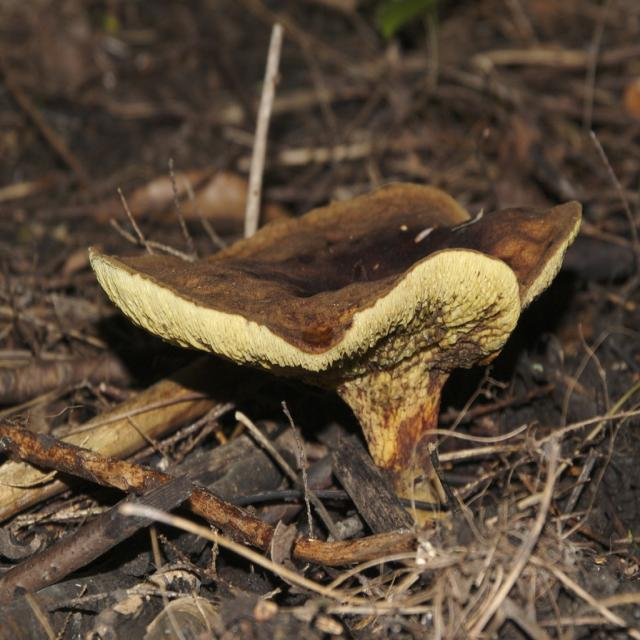mushroom: (77, 144, 589, 524)
